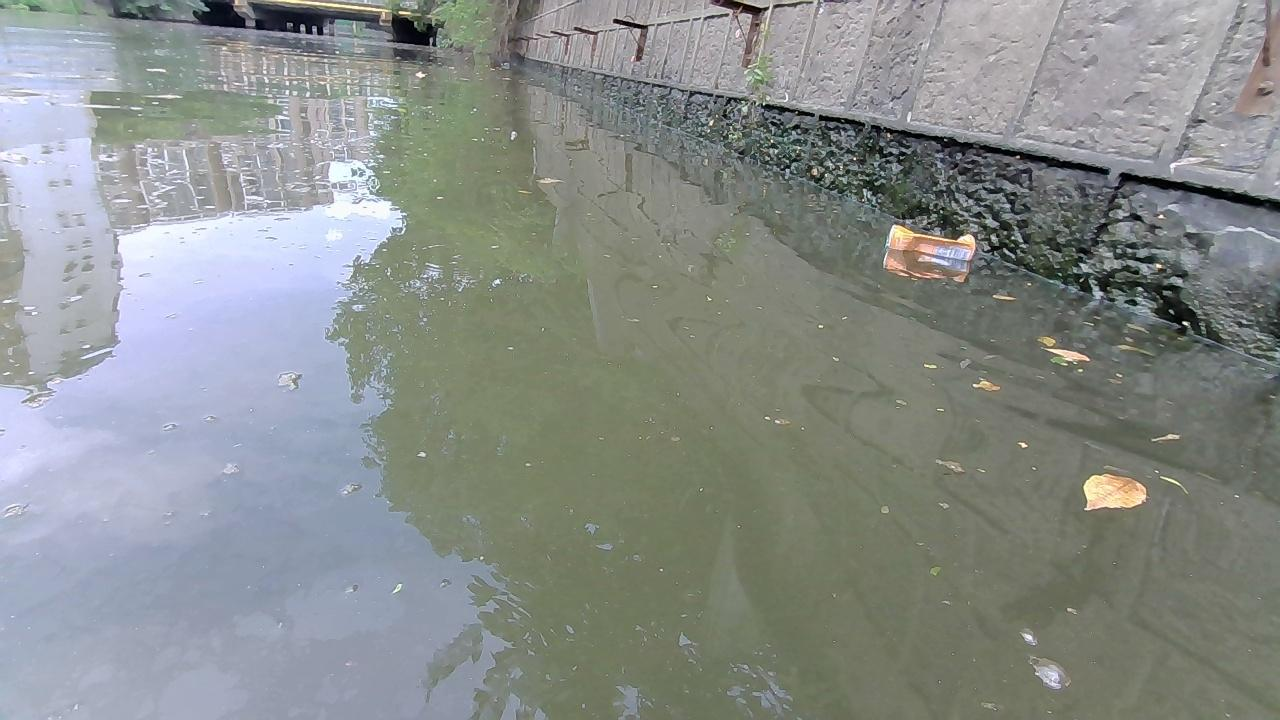bottle: (884, 223, 976, 261)
